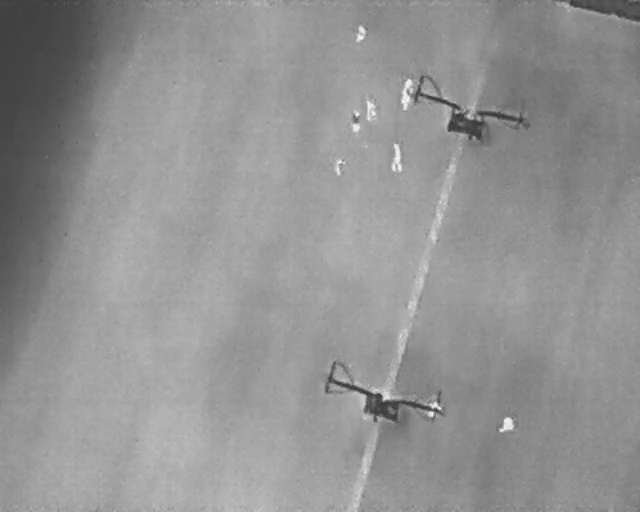Person: (388, 141, 404, 174), (352, 21, 370, 46), (400, 76, 418, 96), (331, 156, 347, 178), (349, 110, 362, 135), (498, 415, 515, 434), (364, 98, 377, 121), (399, 90, 411, 112)
